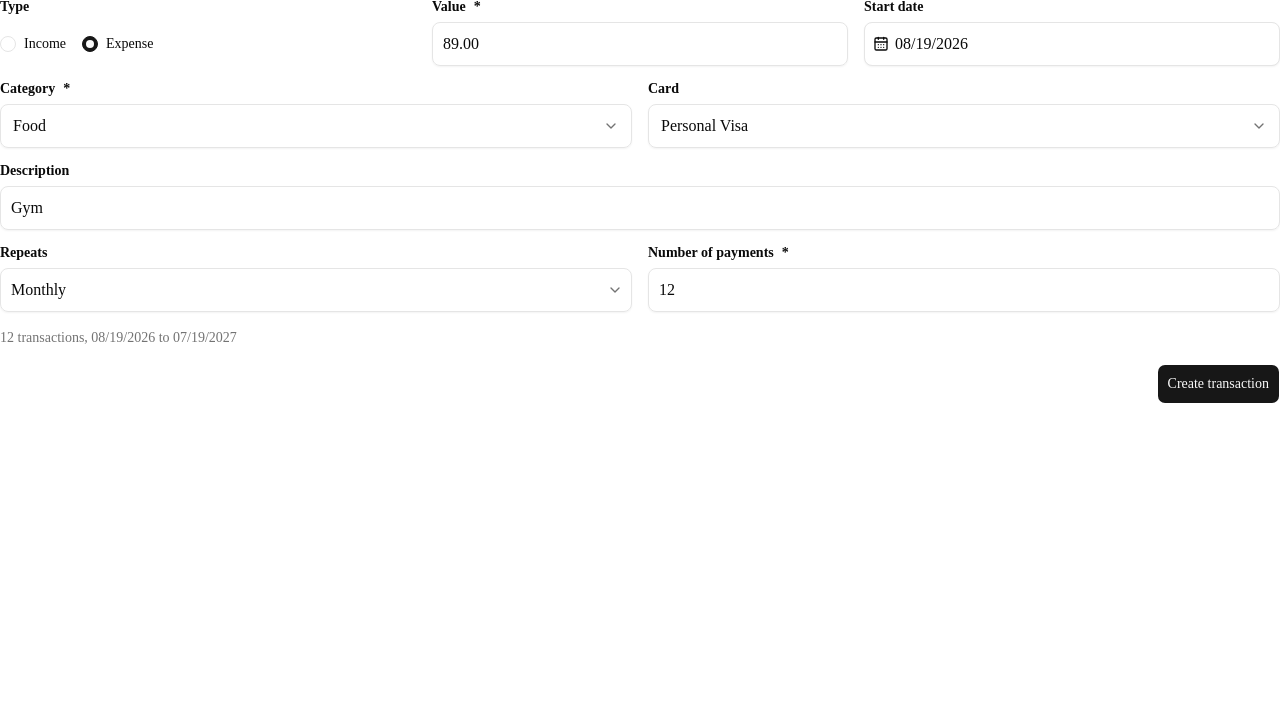
Test: InstallmentForm › caps the start date at today
This screenshot has width=1280, height=720.
Click the button named "Start date": [931, 44] box [864,22,1279,66]
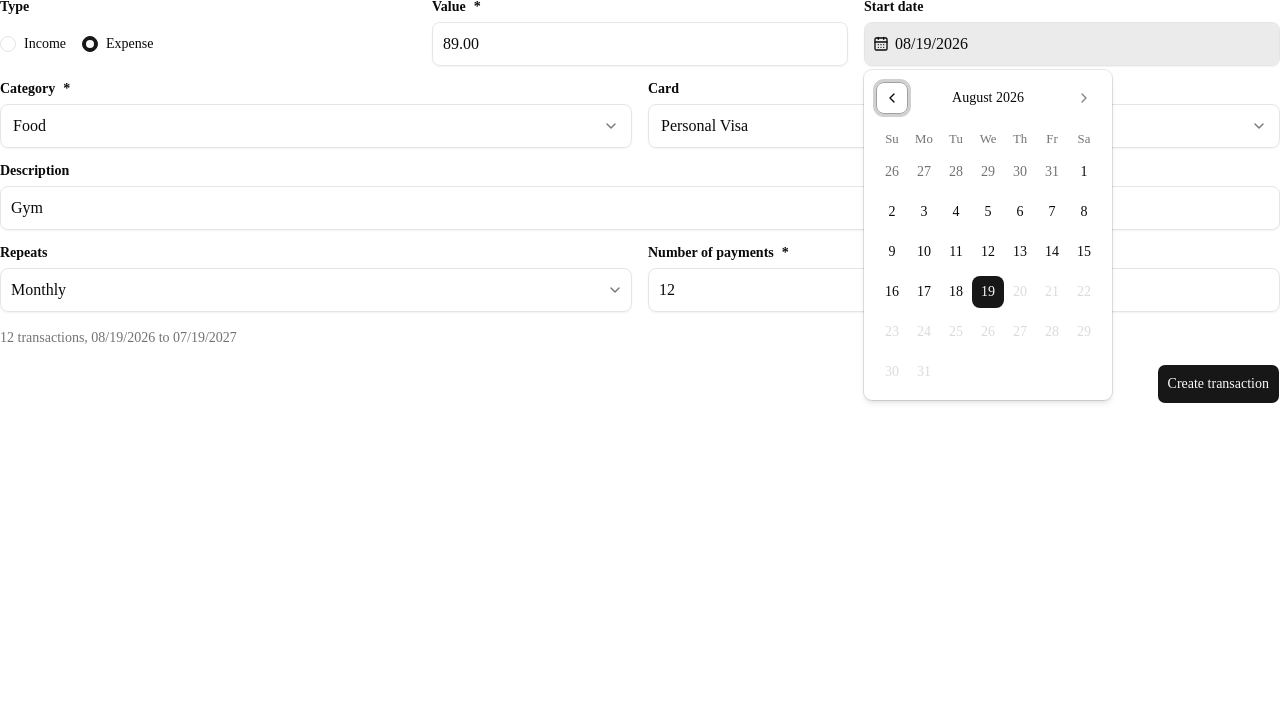
Expected: the button named "August 19th, 2026" is enabled, [972,276,1004,308]
Expected: the button named "August 20th, 2026" is disabled, [1004,276,1036,308]
